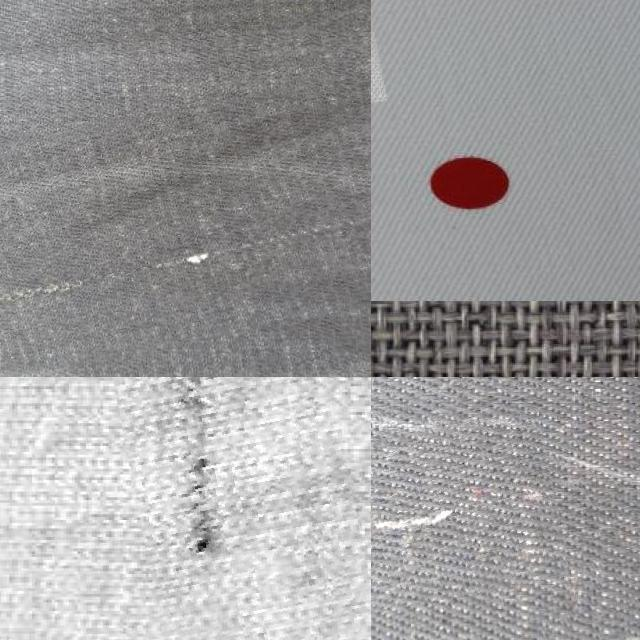Thread_other: (0, 92, 371, 377), (118, 377, 364, 640), (371, 423, 564, 626)
